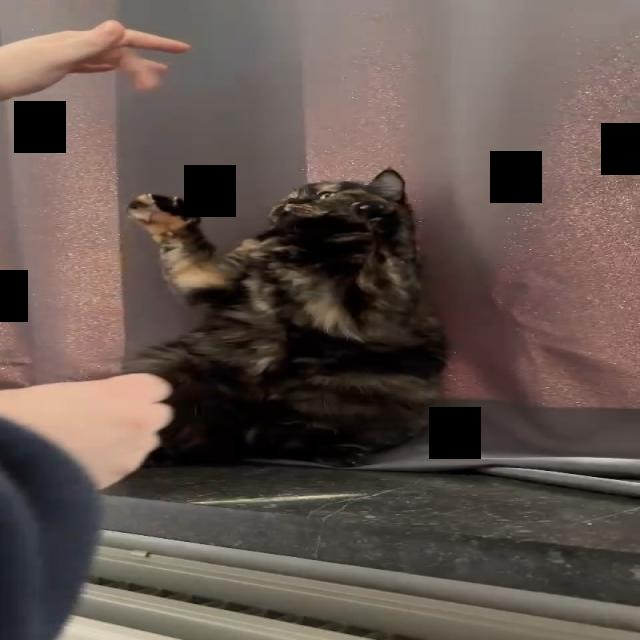authorized: (119, 166, 449, 469)
